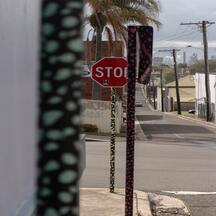Circle: (90, 57, 128, 86)
